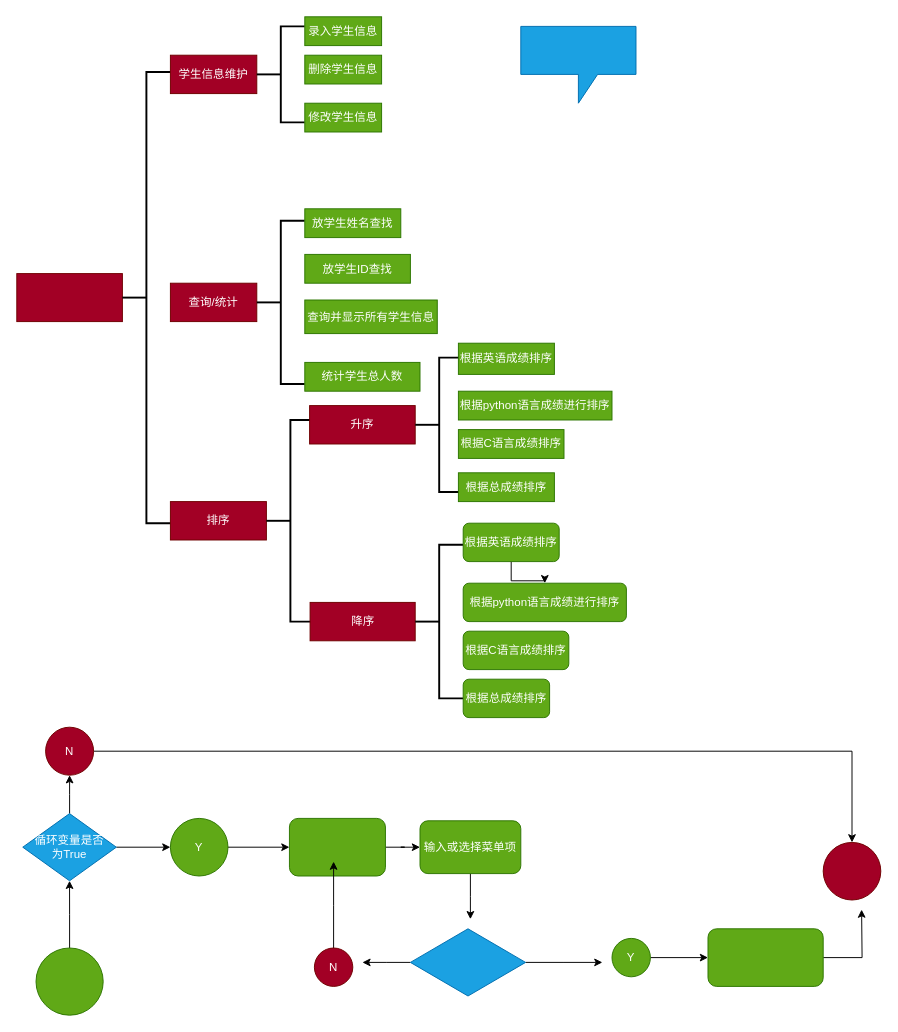
This 898x1032 diagram has some shape labels left out. The shapes that lost their labels are listed below. From the top down, each one's box as (x1, y1, x2, y2) in pixels, then its label:
(520, 25, 636, 103): 图1.1 系统功能结构
(16, 273, 122, 322): 学生信息管理系统
(288, 817, 385, 876): 显示主菜单 应用print()函数
(822, 841, 881, 900): 结束
(409, 928, 526, 996): 判断是否存在 响应功能
(707, 928, 823, 986): 调用相应函数
(35, 947, 103, 1015): 开始
